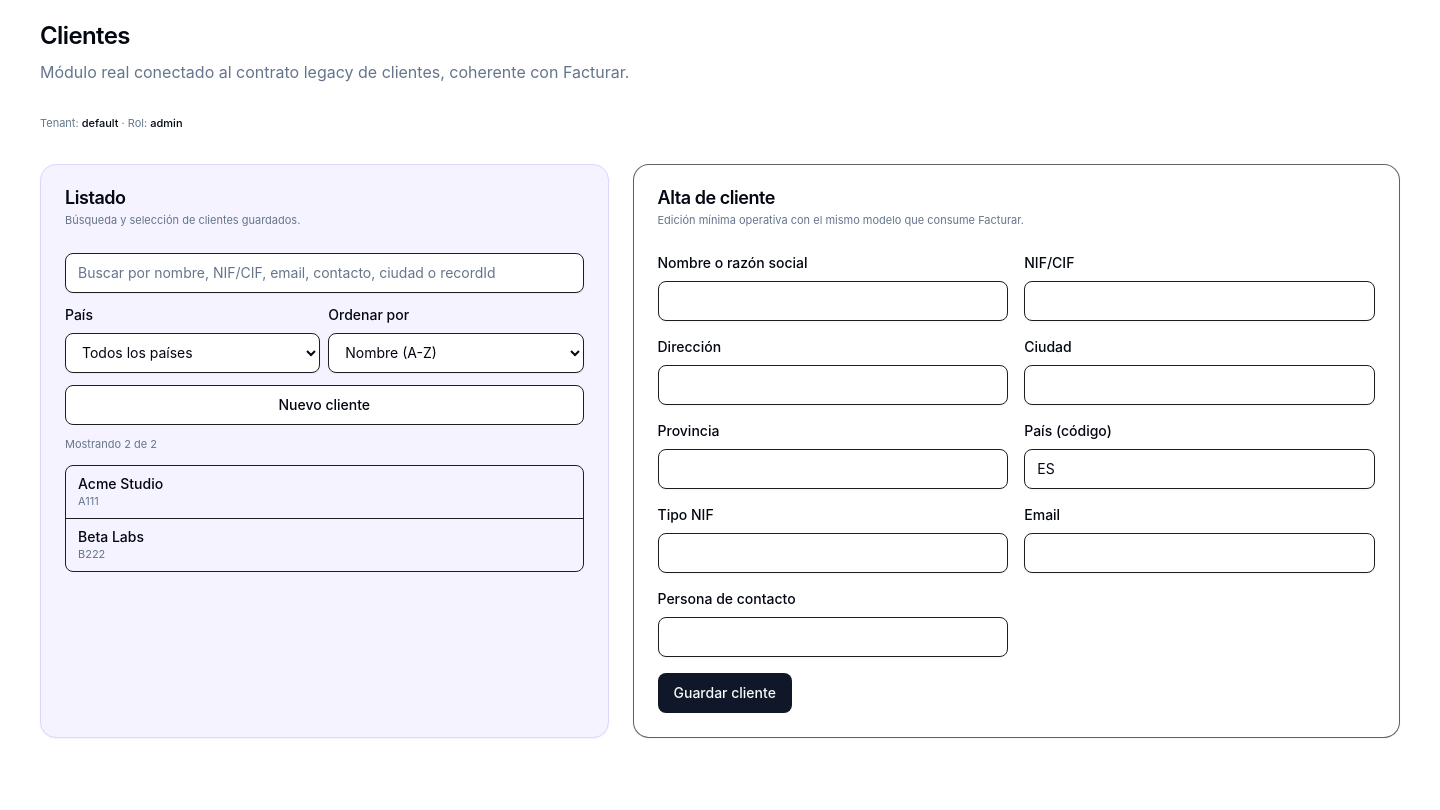
Test: ClientsPage regression › lists, filters and saves a client
expect the text "Acme Studio" is shown: met, box [78,475,163,492]
expect the text "Beta Labs" is shown: met, box [78,528,144,545]
Type "Beta" into the field with placeholder "Buscar por nombre, NIF/CIF, email, contacto, ciudad o recordId". click: [324, 273]
box: [65,253,584,293]
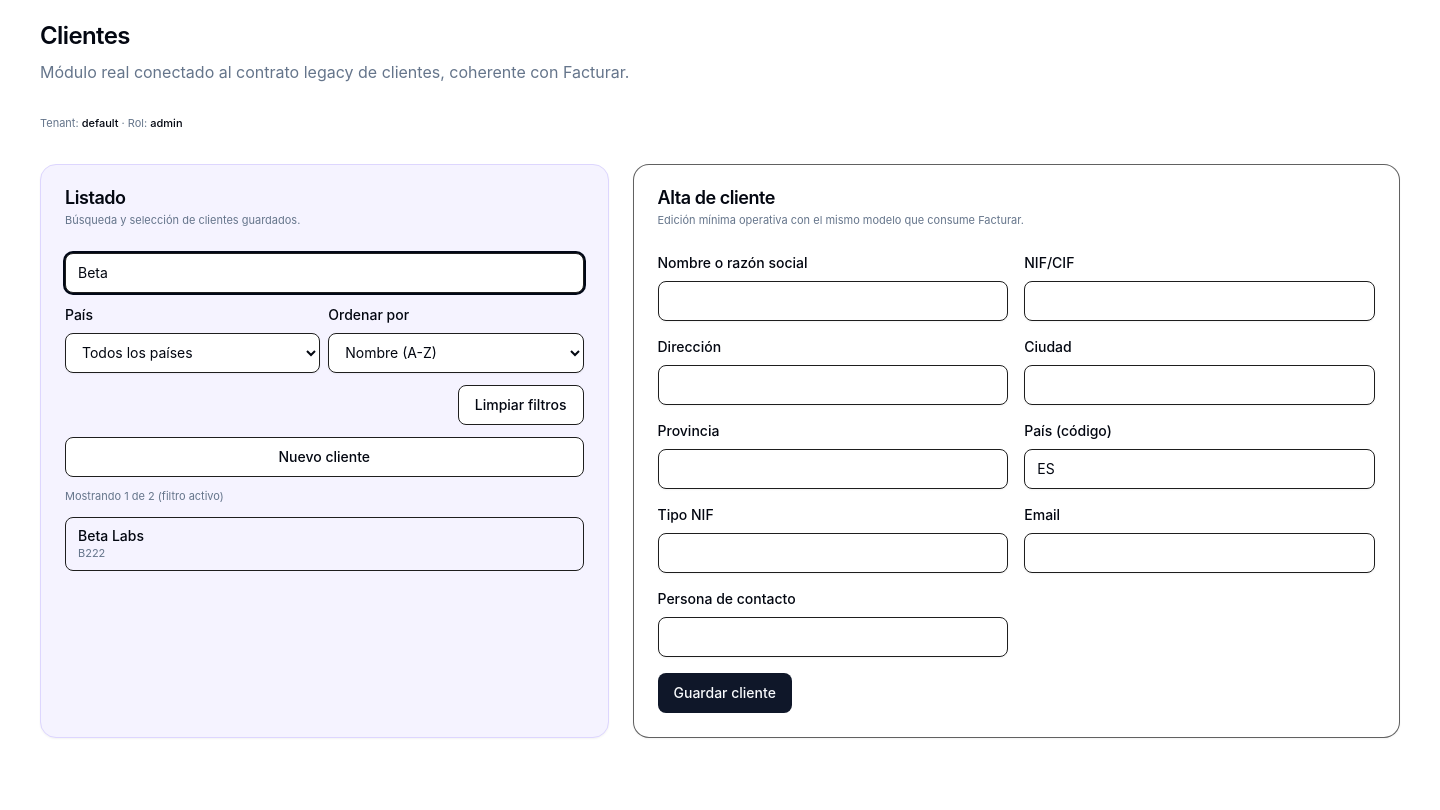
expect the text "Beta Labs" is shown: met, box [78,527,144,544]
expect the button "Acme Studio" is gone: met
Clear the field with placeholder "Buscar por nombre, NIF/CIF, email, contacto, ciudad o recordId". click: [324, 273]
box: [65,253,584,293]
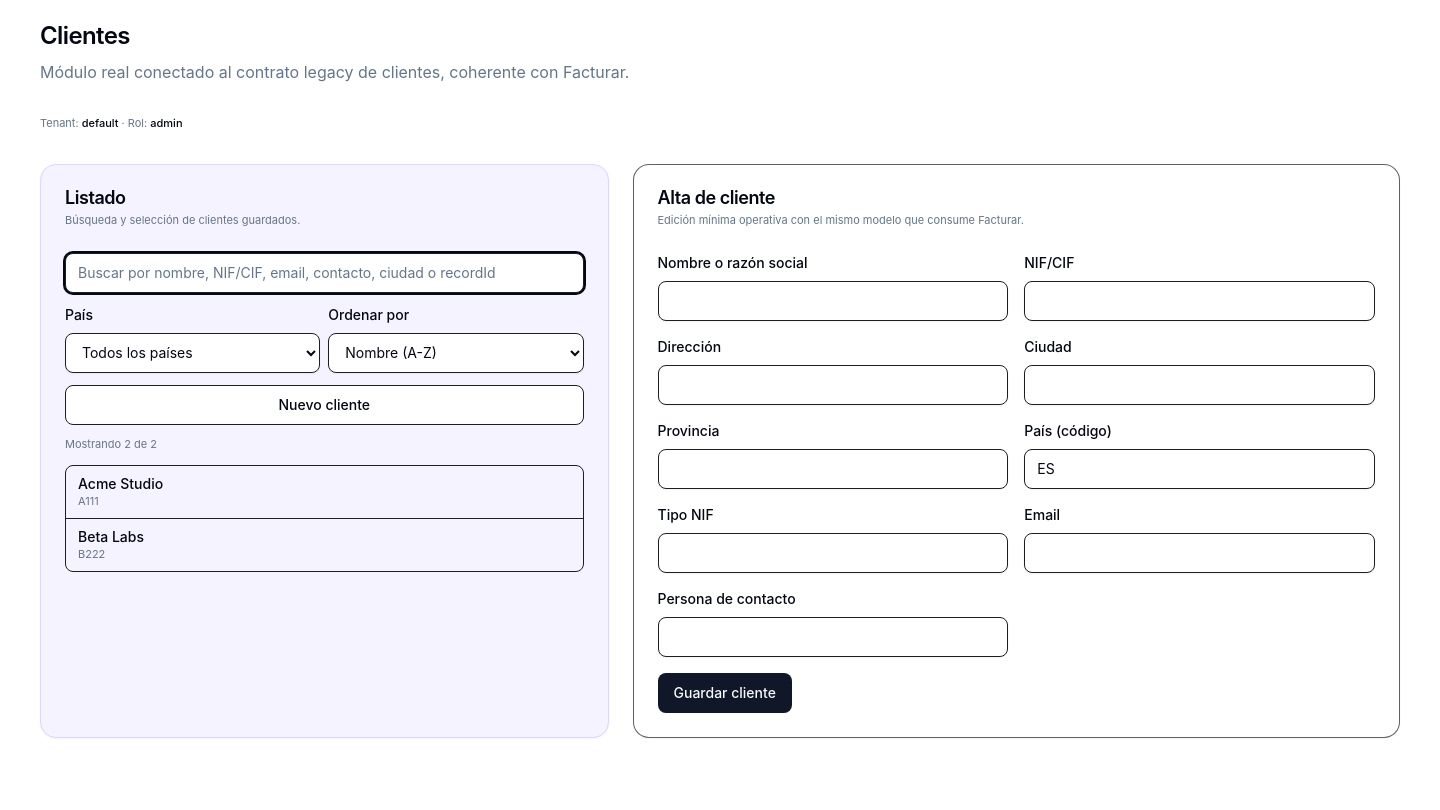
Click the text "Acme Studio". click: [121, 483]
box: [78,475,163,492]
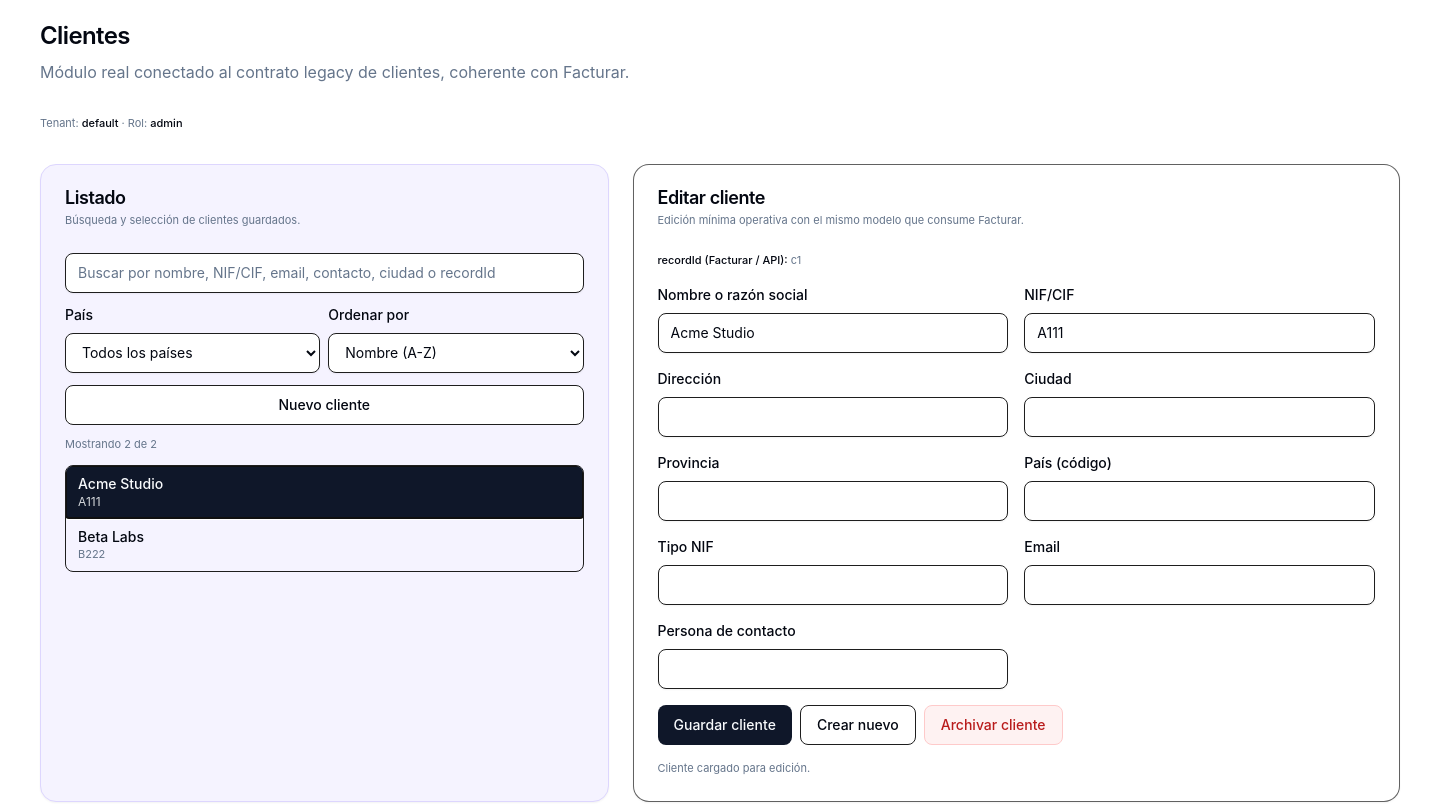
Replace the text in the field labelled "Nombre o razón social" with "Acme Studio Updated". click: [833, 333]
box: [658,313,1008,353]
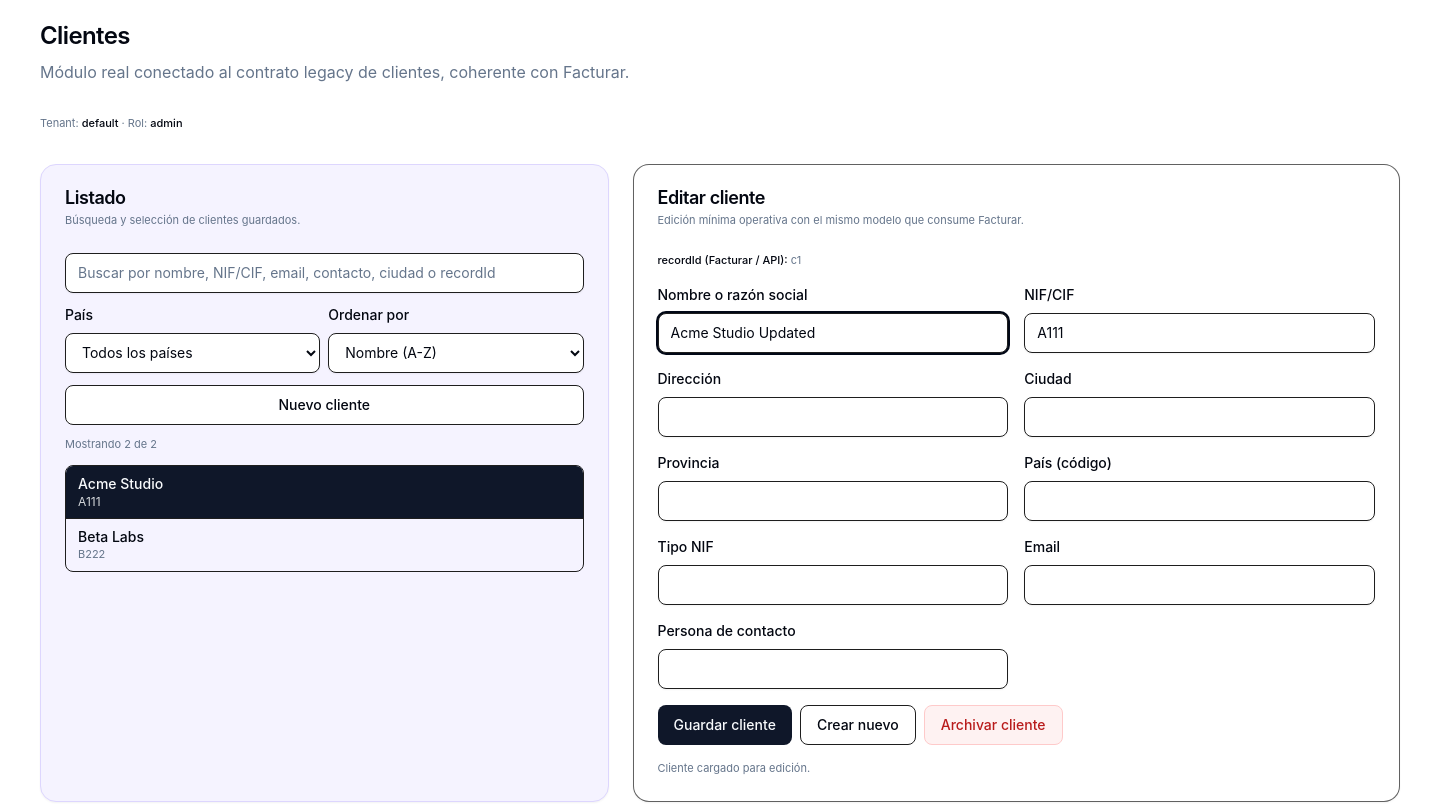
Click the button "Guardar cliente". click: [725, 725]
box: [658,705,792,745]
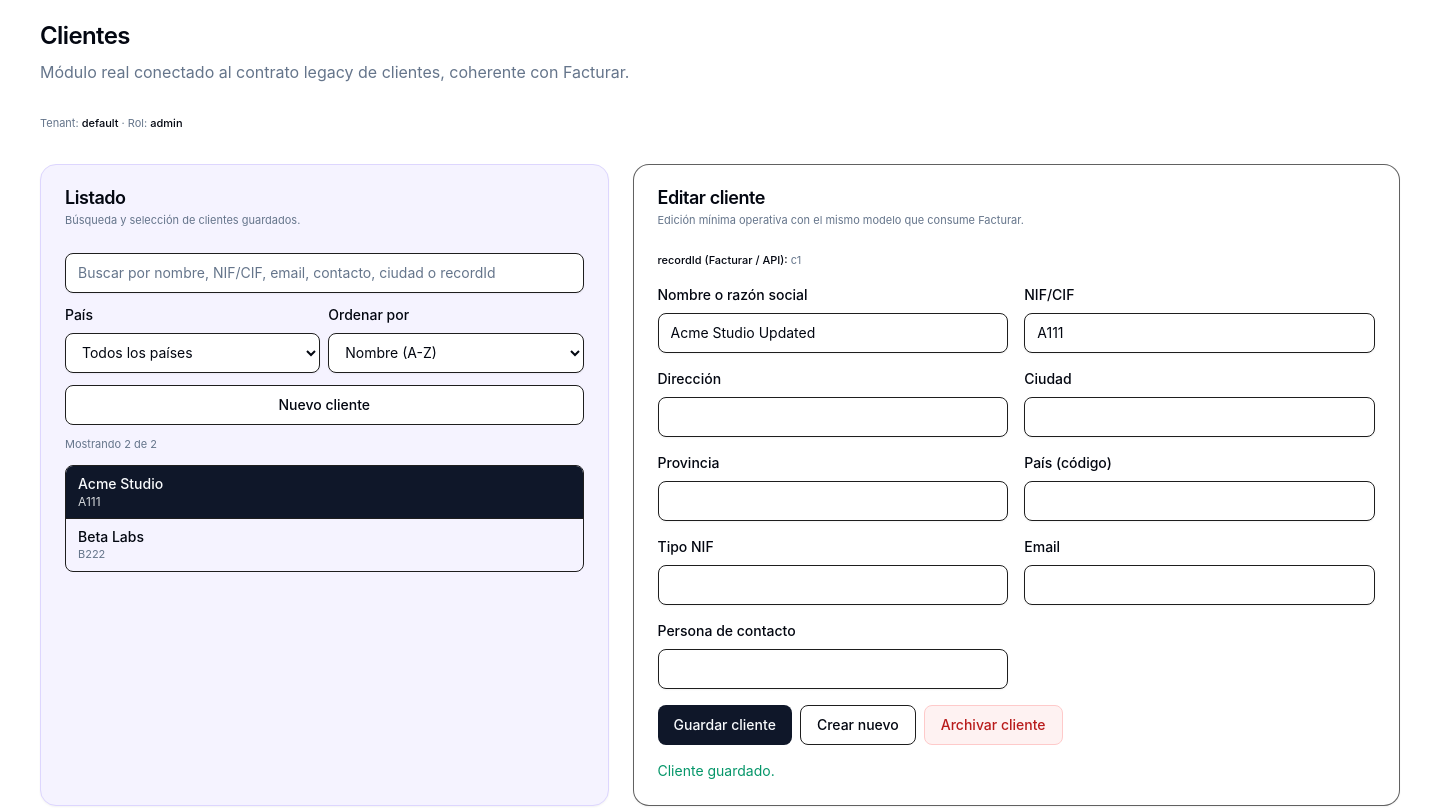
expect the text "Cliente guardado." is shown: met, box [658,762,775,779]
